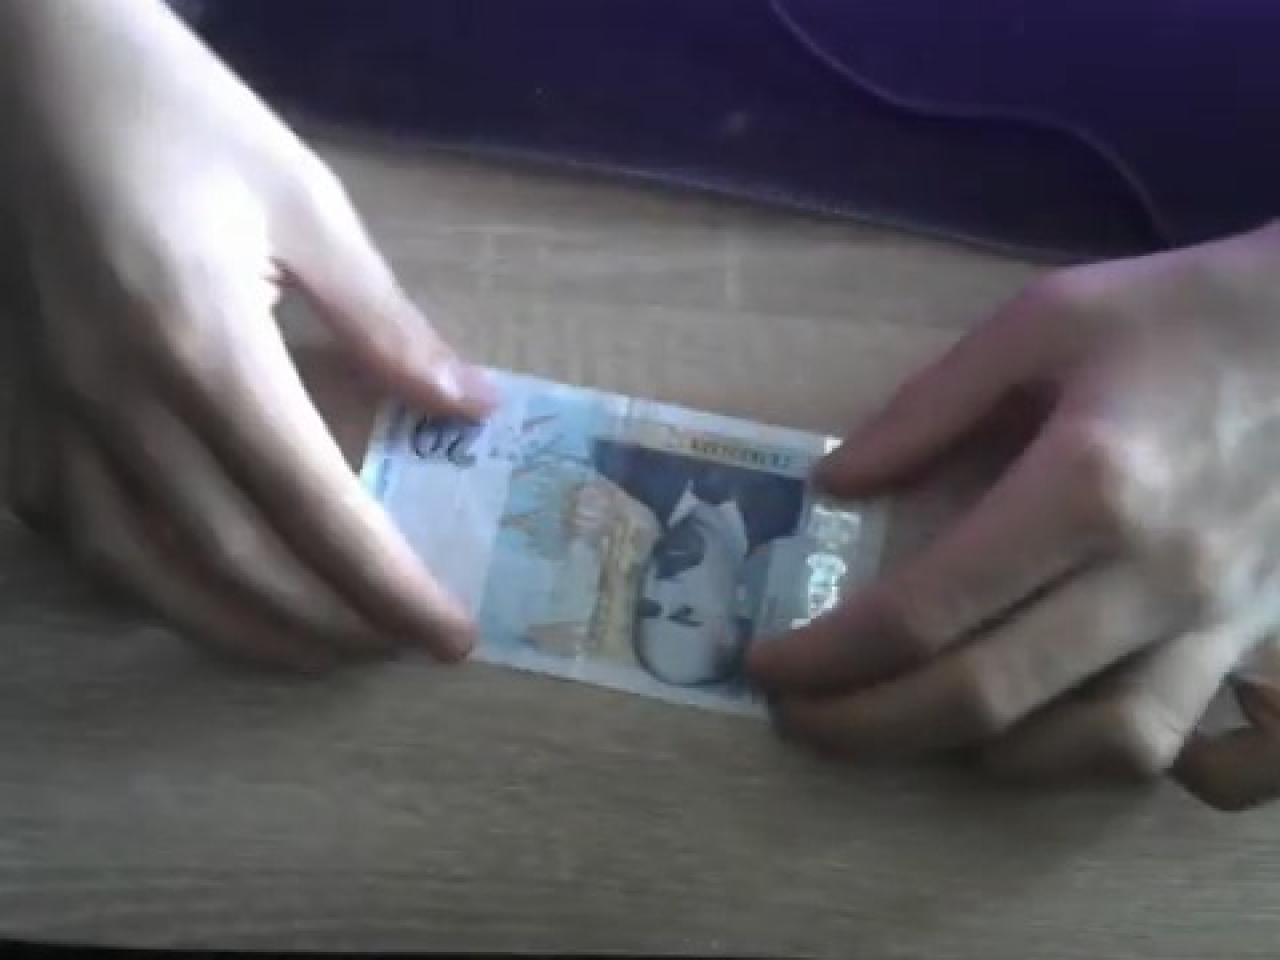20leva: (360, 371, 851, 723)
